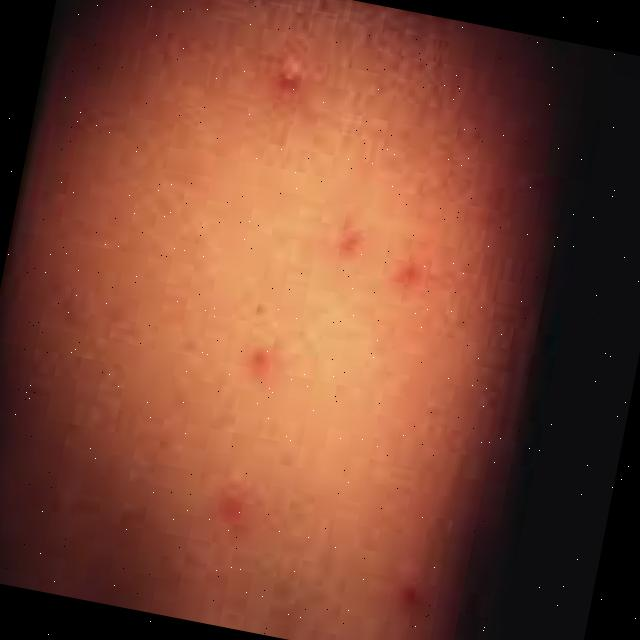kan emici bocekler: (261, 44, 328, 112)
